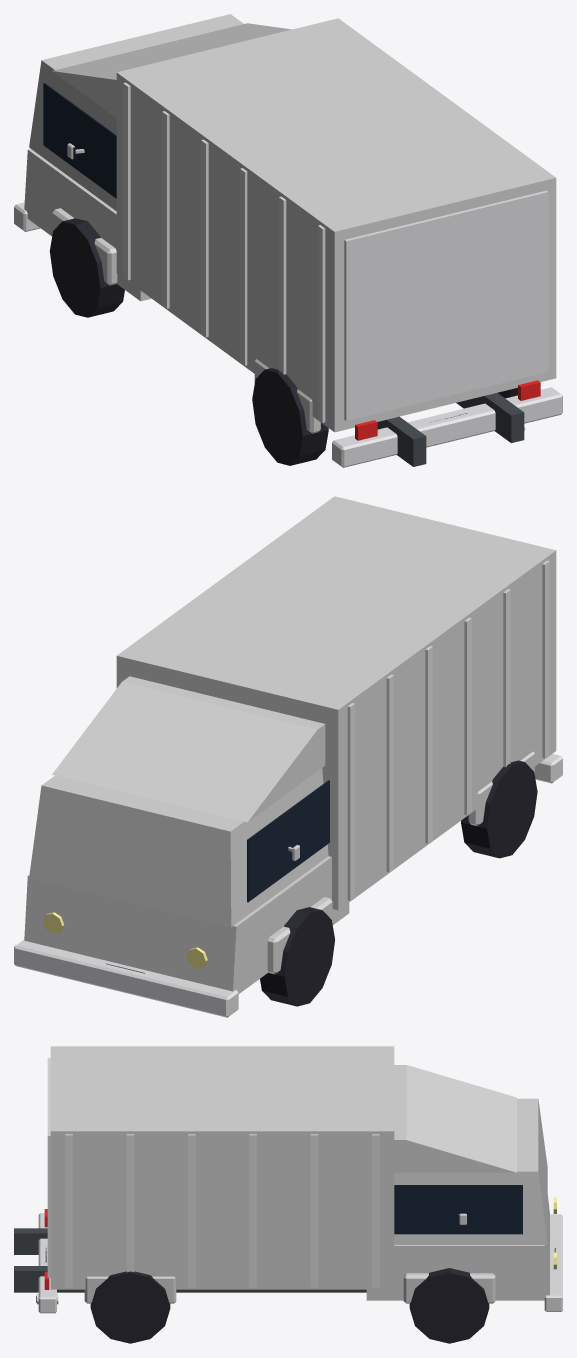
Rendered from city_box_delivery_truck.fbx.
3 renders of one model, top to bottom at view 1: azimuth 30°, elevation 25°; view 2: azimuth 150°, elevation 25°; view 3: azimuth 270°, elevation 25°, orthographic. The views are drawn at different scales.
Visible parts, largest first — view 1: city_box_delivery_truck; view 2: city_box_delivery_truck; view 3: city_box_delivery_truck.
Part boxes in pixels (x1,y1,x2,y2): city_box_delivery_truck: (14,14,562,467); city_box_delivery_truck: (14,496,562,1017); city_box_delivery_truck: (14,1046,562,1343).
Size of the model in its own units: 720 by 780 by 1850.
